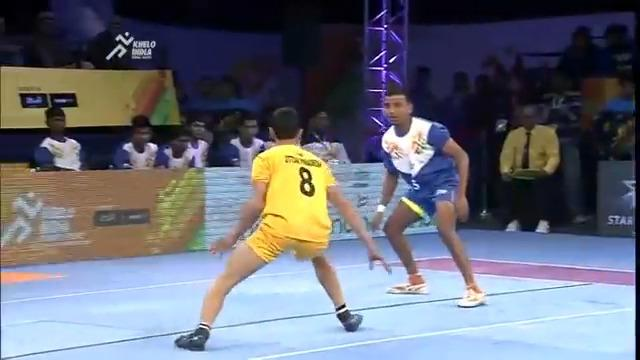Player: (369, 88, 487, 307), (30, 105, 84, 171)
Raider: (173, 105, 391, 351)
referee: (497, 102, 561, 233), (80, 14, 167, 69), (21, 8, 76, 67)
